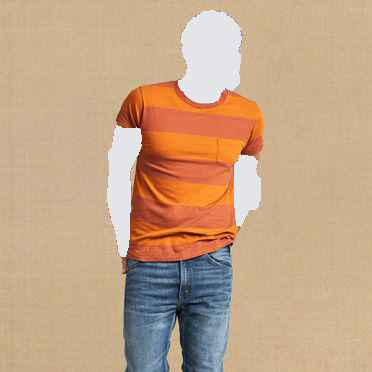teeshirt: (108, 79, 267, 266)
